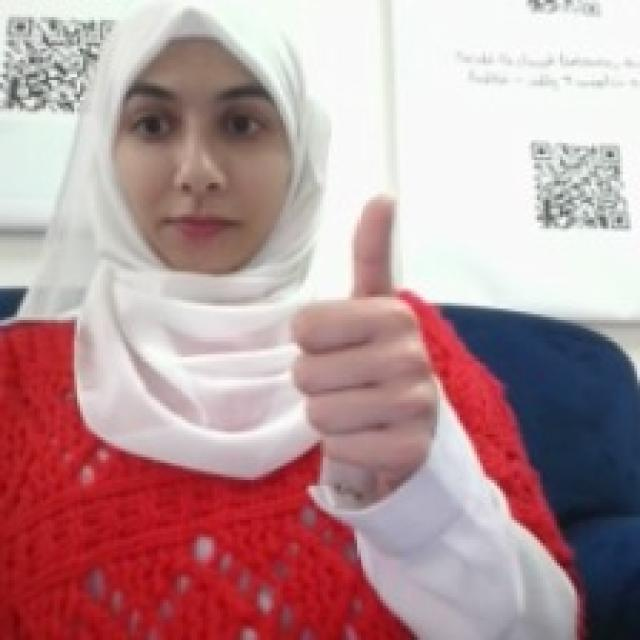fine: (283, 183, 448, 483)
